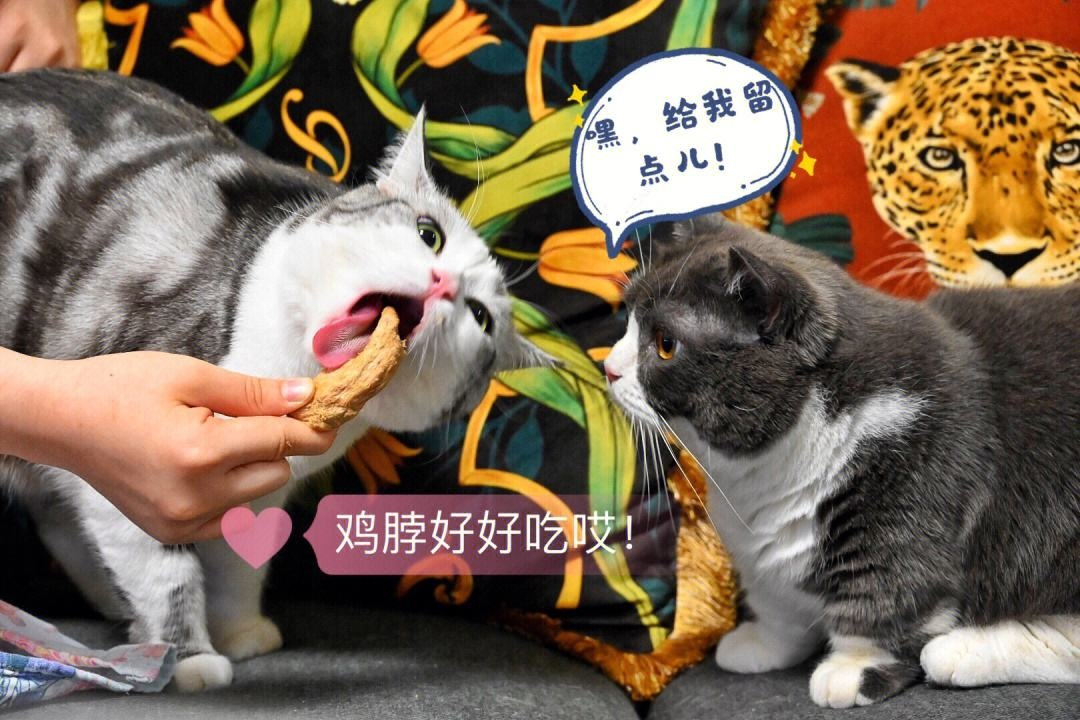cat: (1, 66, 563, 694), (603, 211, 1080, 709)
